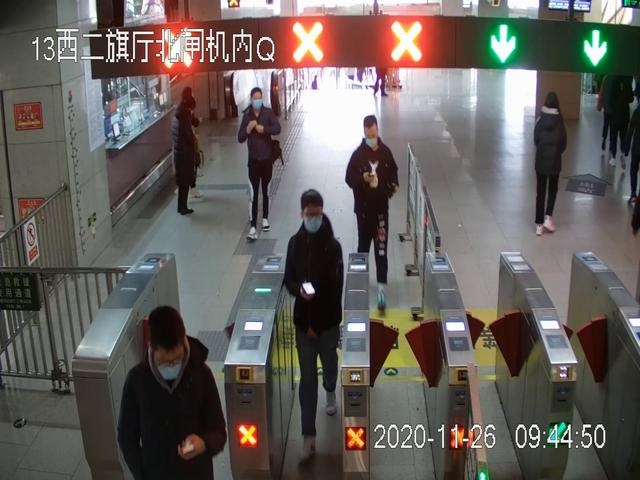person: (119, 307, 228, 480), (283, 187, 345, 466), (345, 116, 400, 312), (237, 87, 287, 240), (533, 89, 568, 238), (172, 98, 204, 217), (606, 77, 633, 166)
